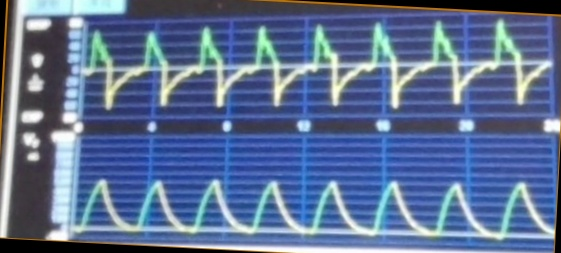Accumulation Flow: (87, 20, 547, 113)
Volume: (80, 148, 545, 241)
